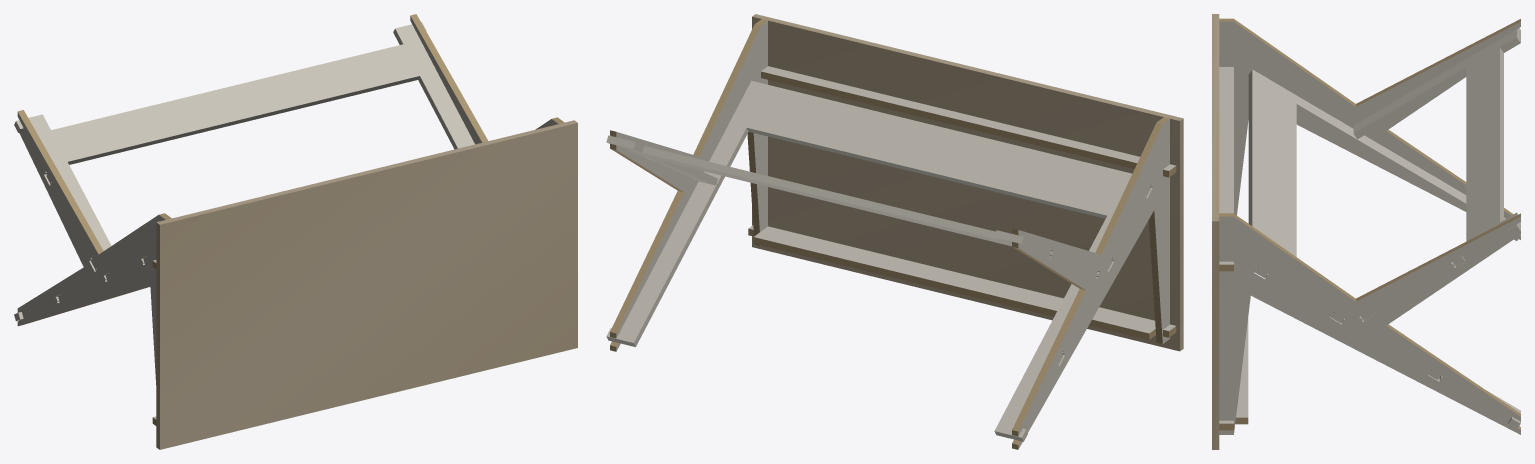
The model's file is NODO_ESCRITORIO_ESCULTORICO_KIRI_FINAL_SIN_ENCASTRES.glb.
The picture shows the model from 3 angles, left to right: view 1: azimuth 30°, elevation 25°; view 2: azimuth 150°, elevation 25°; view 3: azimuth 270°, elevation 25°; orthographic projection. The views are drawn at different scales.
Visible parts, largest first — view 1: G_Tapa_Superior_LIMPIA, B_Escuadra_Trasera_canto, D_Lateral_Izq_cuerpo, D_Lateral_Izq_canto_perimetro_2, C_Lateral_Der_canto_perimetro_2, C_Lateral_Der_cuerpo; view 2: G_Tapa_Superior_LIMPIA, A_Escuadra_Delantera_canto, D_Lateral_Izq_cuerpo, C_Lateral_Der_cuerpo, F_Traba_Delantera_cuerpo, B_Escuadra_Trasera_canto, D_Lateral_Izq_canto_perimetro_2, C_Lateral_Der_canto_perimetro_2, E_Traba_Trasera_cuerpo, E_Traba_Trasera_canto, F_Traba_Delantera_canto; view 3: C_Lateral_Der_cuerpo, D_Lateral_Izq_cuerpo, A_Escuadra_Delantera_canto, B_Escuadra_Trasera_canto, G_Tapa_Superior_LIMPIA, E_Traba_Trasera_cuerpo, C_Lateral_Der_canto_perimetro_2, D_Lateral_Izq_canto_perimetro_2, F_Traba_Delantera_cuerpo.
Part boxes in pixels (box(x1,y1,x2,y2)): G_Tapa_Superior_LIMPIA: box(156, 120, 577, 449); B_Escuadra_Trasera_canto: box(14, 22, 474, 269); D_Lateral_Izq_cuerpo: box(17, 112, 165, 384); D_Lateral_Izq_canto_perimetro_2: box(17, 110, 171, 325); C_Lateral_Der_canto_perimetro_2: box(410, 14, 564, 142); C_Lateral_Der_cuerpo: box(410, 16, 557, 144); G_Tapa_Superior_LIMPIA: box(752, 14, 1183, 351); A_Escuadra_Delantera_canto: box(606, 80, 1150, 441); D_Lateral_Izq_cuerpo: box(1018, 119, 1169, 449); C_Lateral_Der_cuerpo: box(616, 21, 767, 351); F_Traba_Delantera_cuerpo: box(749, 225, 1175, 333); B_Escuadra_Trasera_canto: box(606, 135, 1097, 277); D_Lateral_Izq_canto_perimetro_2: box(1012, 117, 1169, 449); C_Lateral_Der_canto_perimetro_2: box(610, 19, 767, 351); E_Traba_Trasera_cuerpo: box(761, 66, 1175, 170); E_Traba_Trasera_canto: box(761, 71, 1176, 177); F_Traba_Delantera_canto: box(748, 228, 1176, 339); C_Lateral_Der_cuerpo: box(1219, 216, 1520, 434); D_Lateral_Izq_cuerpo: box(1219, 21, 1520, 239); A_Escuadra_Delantera_canto: box(1248, 69, 1520, 428); B_Escuadra_Trasera_canto: box(1353, 28, 1520, 320); G_Tapa_Superior_LIMPIA: box(1212, 14, 1219, 449); E_Traba_Trasera_cuerpo: box(1219, 67, 1233, 264); C_Lateral_Der_canto_perimetro_2: box(1219, 213, 1520, 429); D_Lateral_Izq_canto_perimetro_2: box(1219, 18, 1520, 215); F_Traba_Delantera_cuerpo: box(1219, 318, 1248, 423).
Size of what is drawn, in the model's own units: 1.22 by 0.628 by 0.7681.
